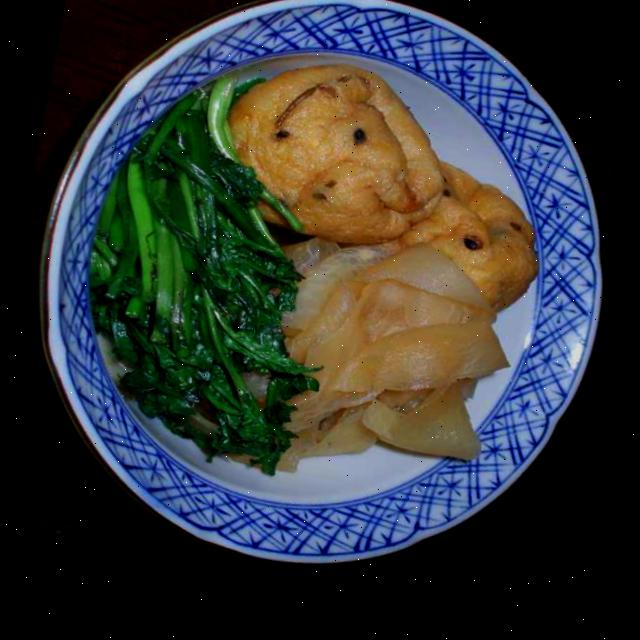熟制海鲜: (66, 0, 621, 536)
